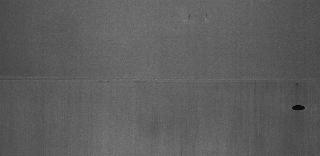punching hole: (287, 103, 307, 113)
welding line: (4, 76, 320, 88)
